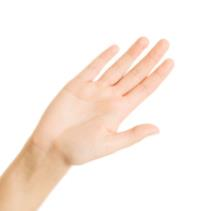down: (45, 34, 176, 168)
